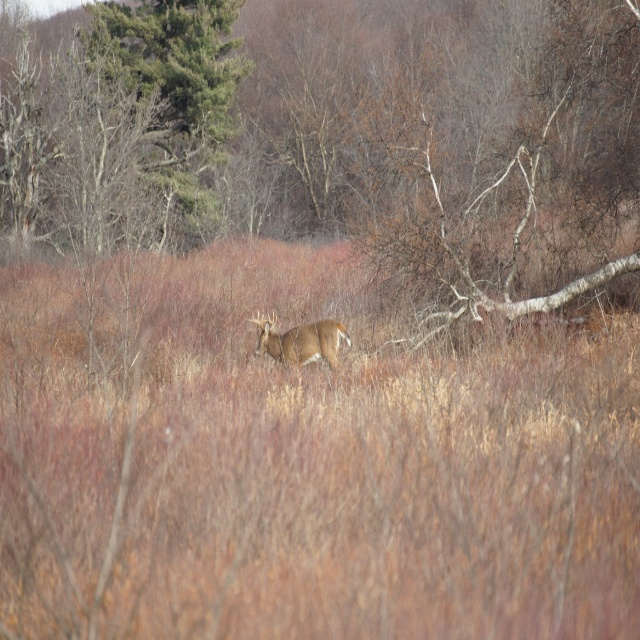Deer: (247, 304, 352, 373)
